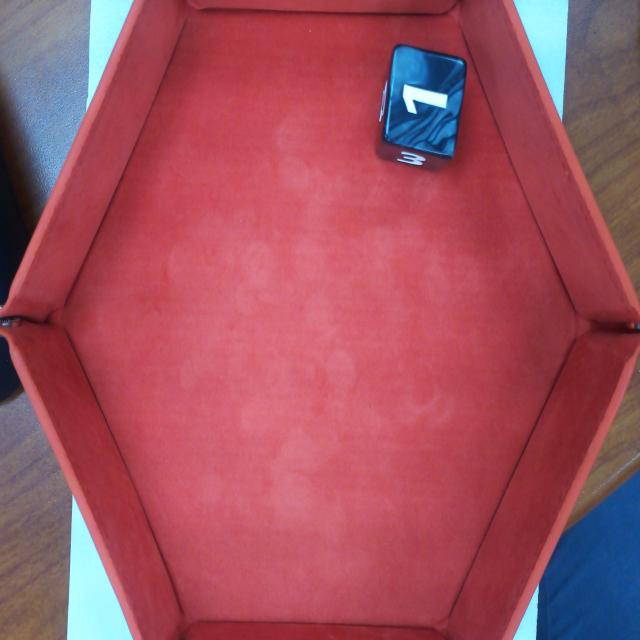dice: (380, 40, 470, 162)
